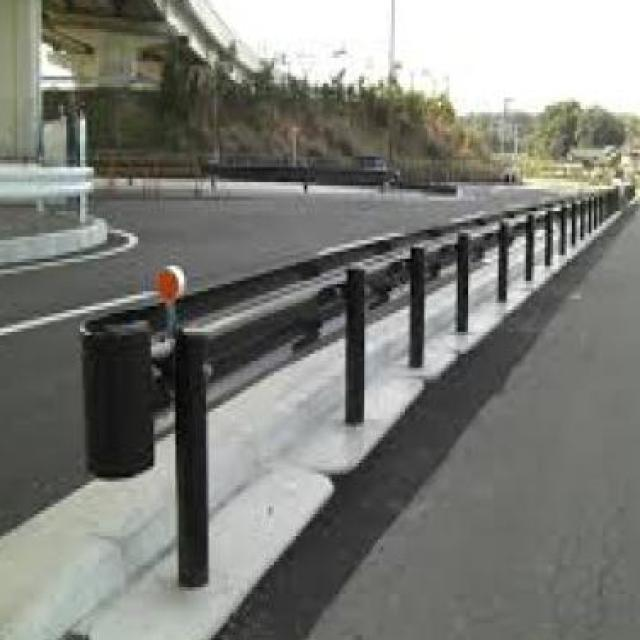Guard rail: (75, 176, 626, 610)
